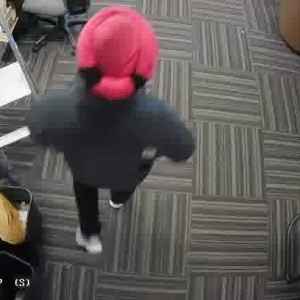person: (41, 3, 179, 225)
